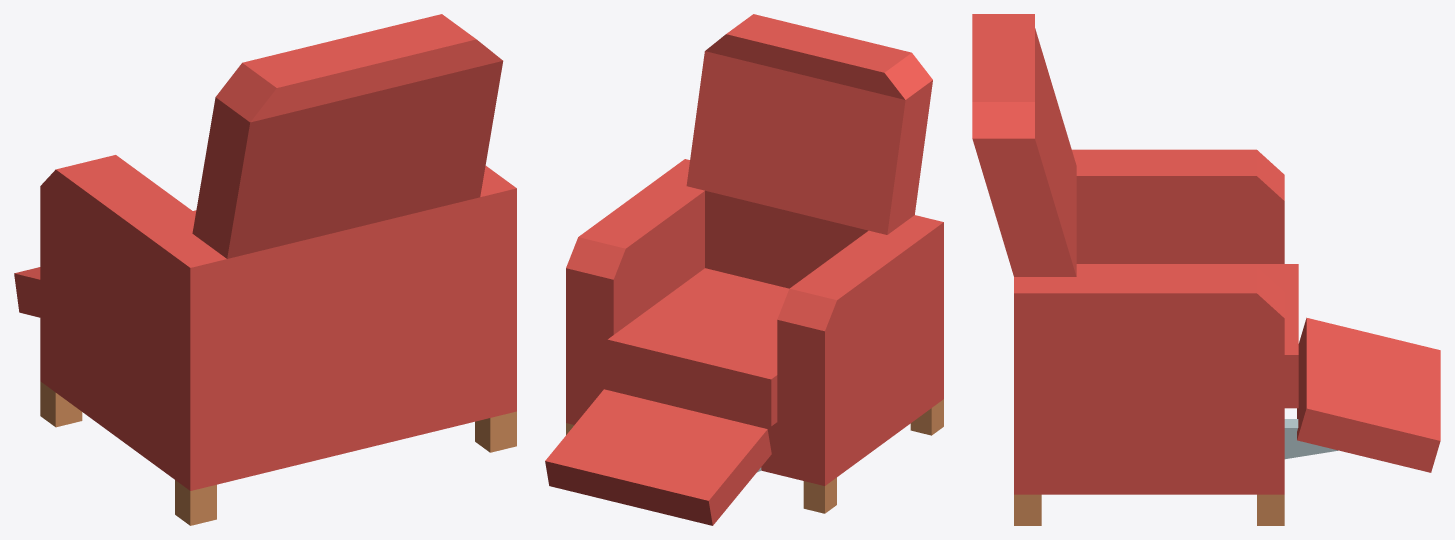
The model's file is Lounge Chair-PImRvMqW1O.glb.
The picture shows the model from 3 angles, left to right: view 1: azimuth 30°, elevation 25°; view 2: azimuth 150°, elevation 25°; view 3: azimuth 270°, elevation 25°; orthographic projection. The views are drawn at different scales.
Parts seen in each view (by area): view 1: loungeChairRelax; view 2: loungeChairRelax; view 3: loungeChairRelax.
Part boxes in pixels (<box>): loungeChairRelax: <box>14,14,516,525</box>; loungeChairRelax: <box>545,14,943,525</box>; loungeChairRelax: <box>972,14,1440,525</box>.
Bounding box in the file's own units: 0.49 × 0.63 × 0.6747.
